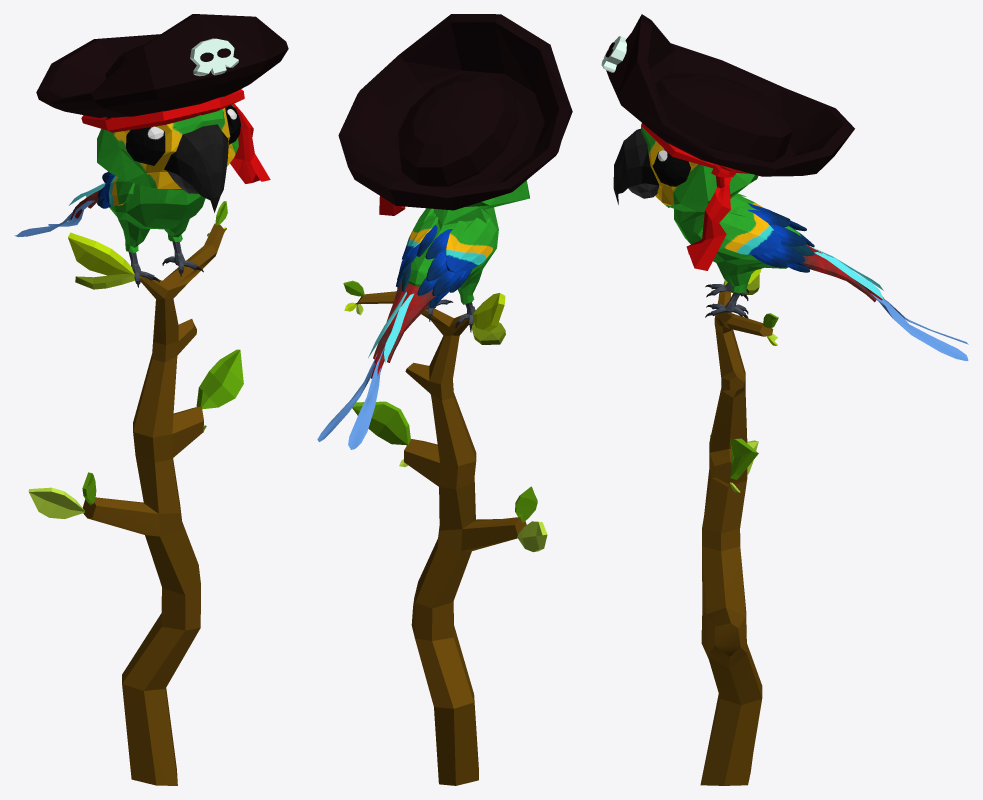
Rendered from baseloro.fbx.
The picture shows the model from 3 angles, left to right: view 1: azimuth 30°, elevation 25°; view 2: azimuth 150°, elevation 25°; view 3: azimuth 270°, elevation 25°; orthographic projection. The views are drawn at different scales.
Parts seen in each view (by area): view 1: loro, Tree_branch, Tree_branch.009, Tree_branch.001, Tree_branch.002, Tree_branch.004; view 2: loro, Tree_branch, Tree_branch.009, Tree_branch.001, Tree_branch.002, Tree_branch.003, Tree_branch.004; view 3: loro, Tree_branch, Tree_branch.009.
Boxes of the visible parts, x1=… form: loro: x1=14, y1=14, x2=288, y2=287; Tree_branch: x1=82, y1=223, x2=224, y2=785; Tree_branch.009: x1=196, y1=349, x2=243, y2=409; Tree_branch.001: x1=68, y1=232, x2=134, y2=275; Tree_branch.002: x1=28, y1=487, x2=84, y2=518; Tree_branch.004: x1=75, y1=274, x2=134, y2=289; loro: x1=317, y1=14, x2=572, y2=449; Tree_branch: x1=355, y1=291, x2=526, y2=785; Tree_branch.009: x1=352, y1=401, x2=410, y2=445; Tree_branch.001: x1=472, y1=293, x2=505, y2=331; Tree_branch.002: x1=517, y1=521, x2=547, y2=552; Tree_branch.003: x1=515, y1=486, x2=537, y2=522; Tree_branch.004: x1=472, y1=321, x2=505, y2=344; loro: x1=601, y1=14, x2=968, y2=360; Tree_branch: x1=700, y1=291, x2=773, y2=785; Tree_branch.009: x1=730, y1=438, x2=758, y2=479.
Size of the model in its own units: 96.03 by 322 by 141.
